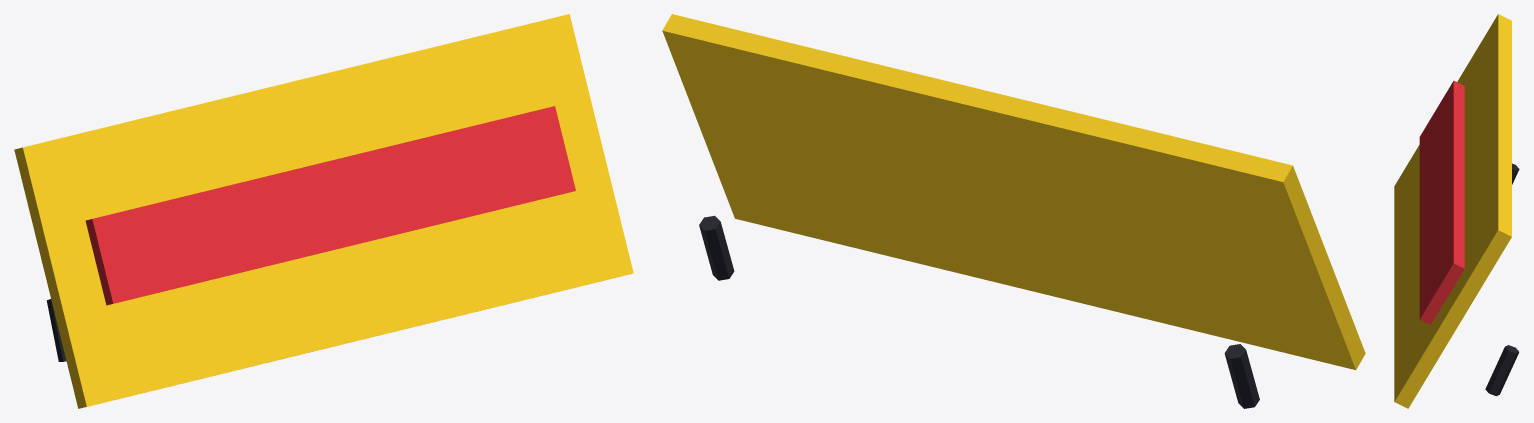
File: upgrade-sign_spoiler.glb
The picture shows the model from 3 angles, left to right: view 1: azimuth 30°, elevation 25°; view 2: azimuth 150°, elevation 25°; view 3: azimuth 270°, elevation 25°; orthographic projection. The views are drawn at different scales.
Visible parts, largest first — view 1: upgrade-sign_spoiler; view 2: upgrade-sign_spoiler; view 3: upgrade-sign_spoiler.
Part boxes in pixels (x1=…): upgrade-sign_spoiler: x1=14, y1=14, x2=633, y2=408; upgrade-sign_spoiler: x1=662, y1=14, x2=1365, y2=408; upgrade-sign_spoiler: x1=1394, y1=14, x2=1519, y2=408.
Bounding box in the file's own units: 1.3 × 0.5086 × 0.3179.
